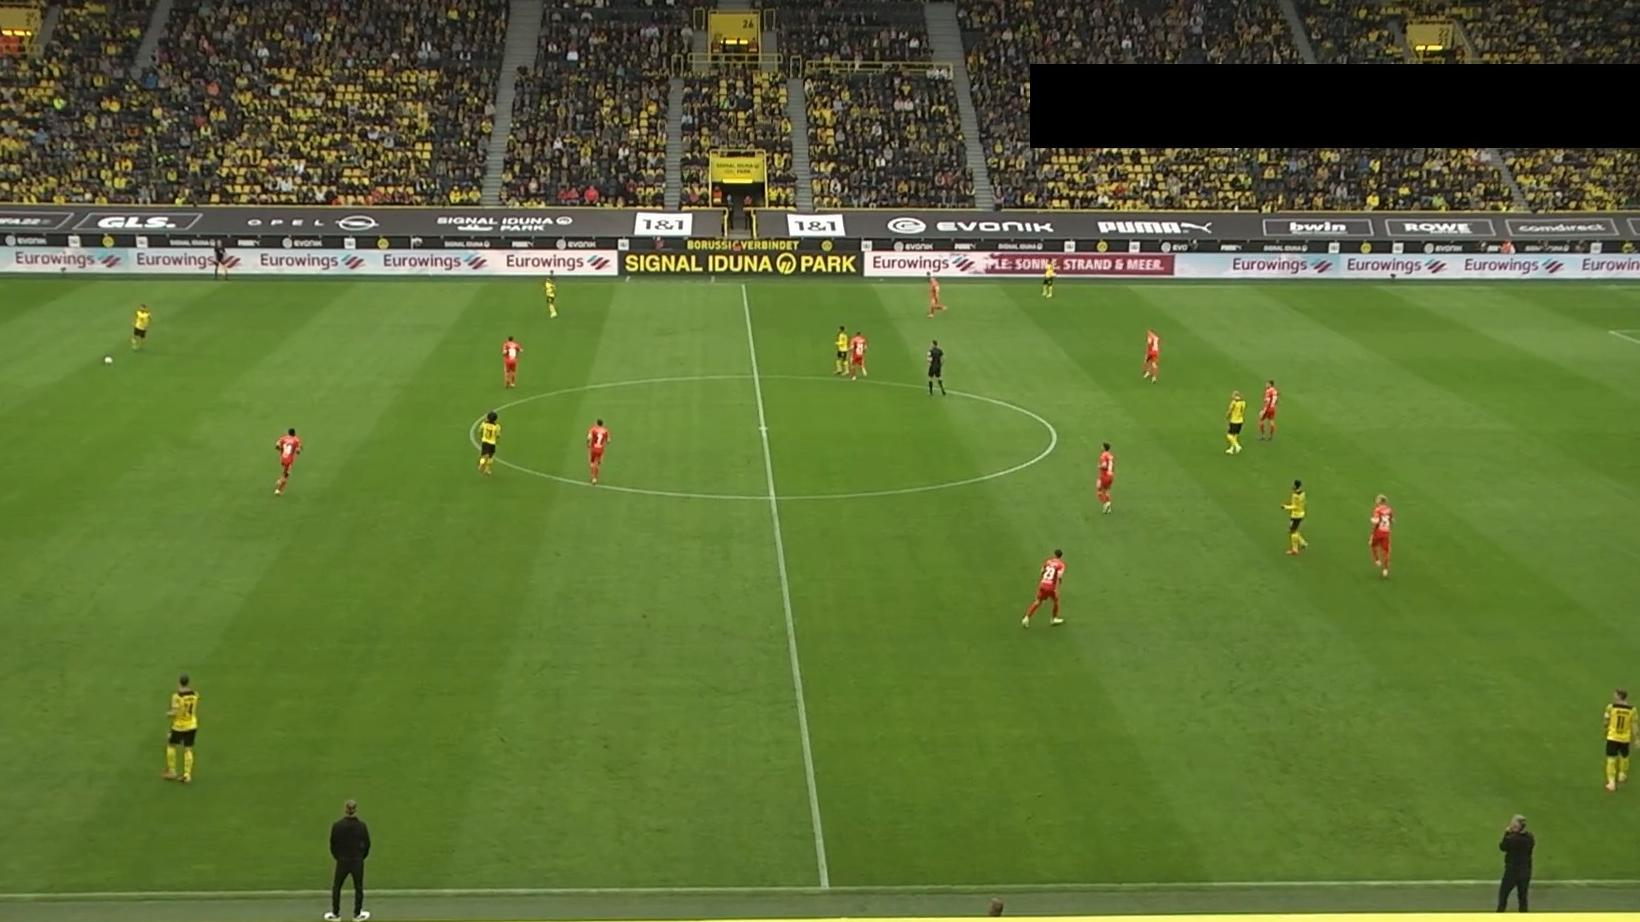ball: (104, 353, 115, 367)
